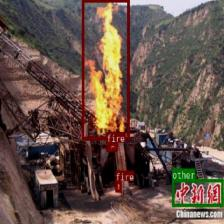fire: (81, 0, 128, 139), (106, 142, 117, 151), (115, 181, 121, 191)
